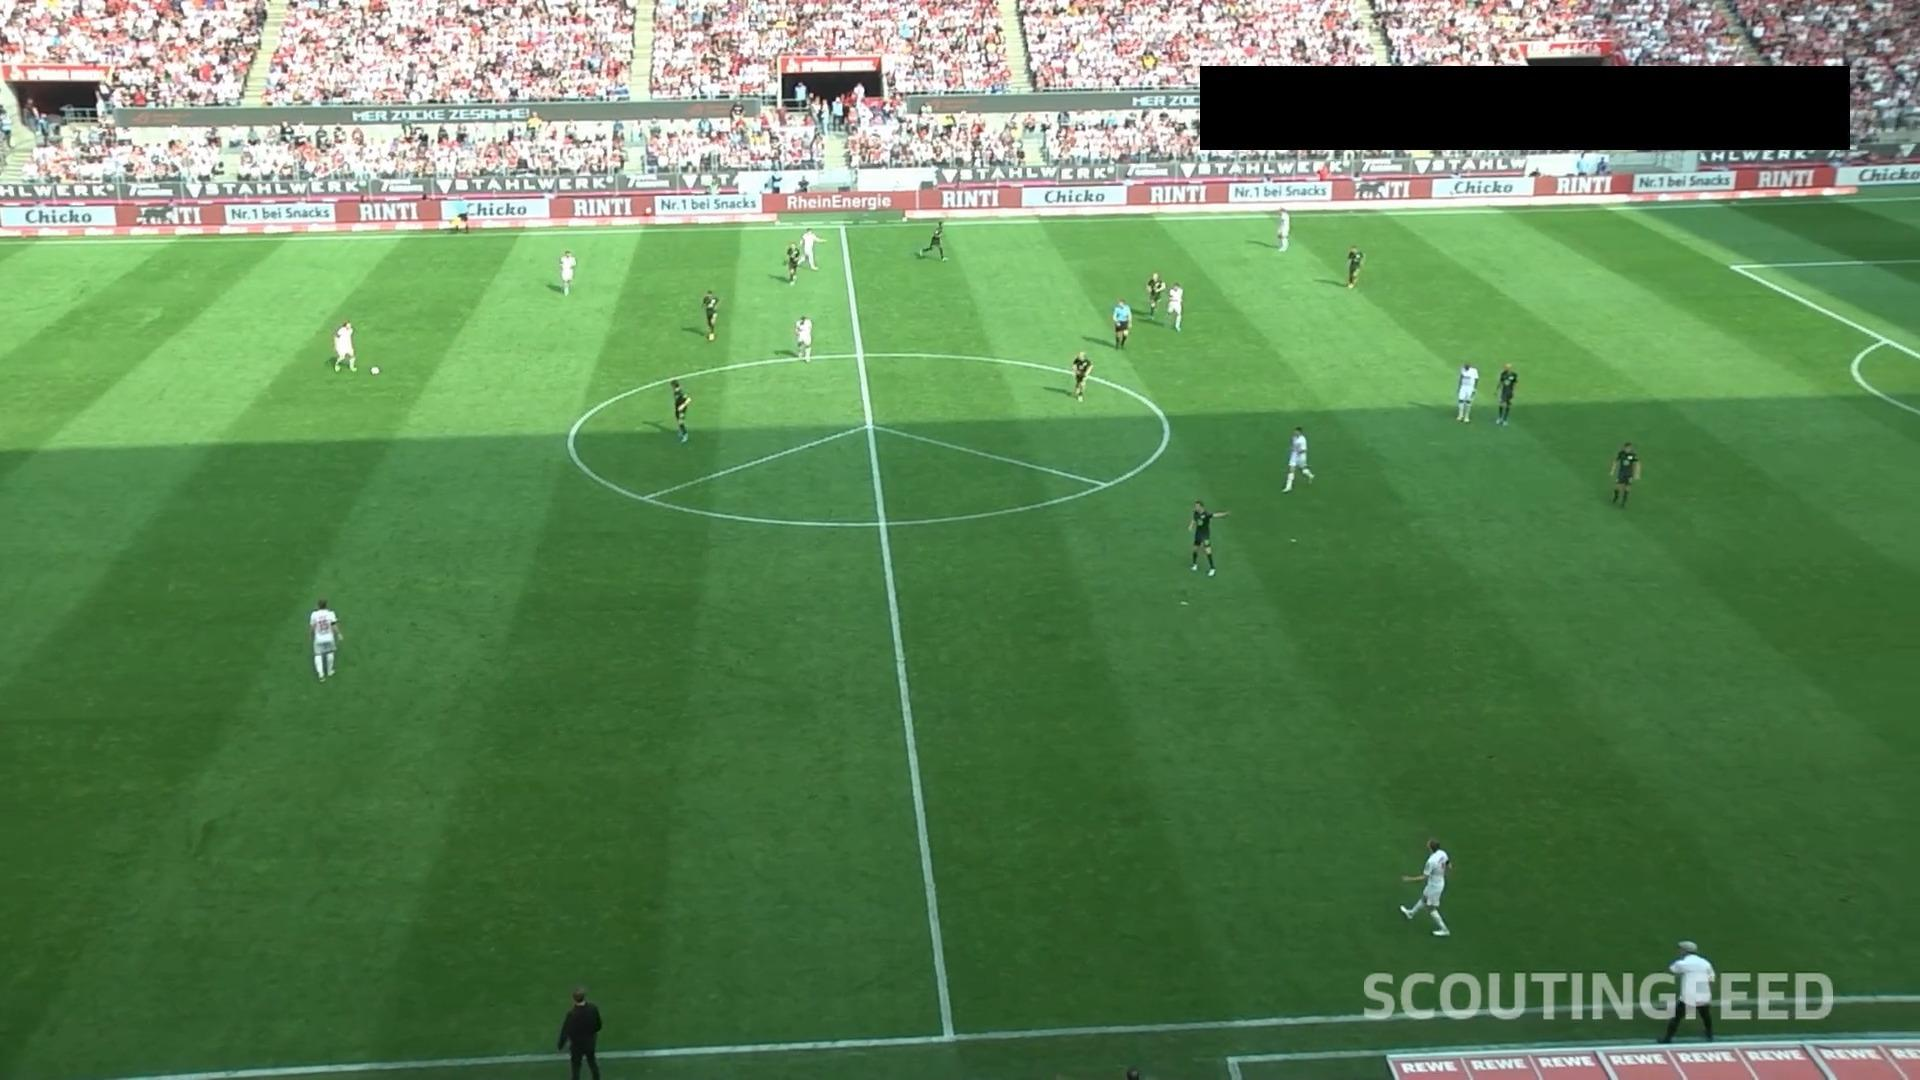ball: (371, 365, 381, 376)
